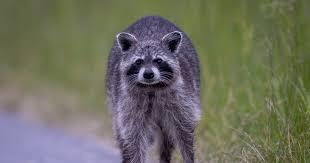raccoon: (76, 1, 221, 163)
